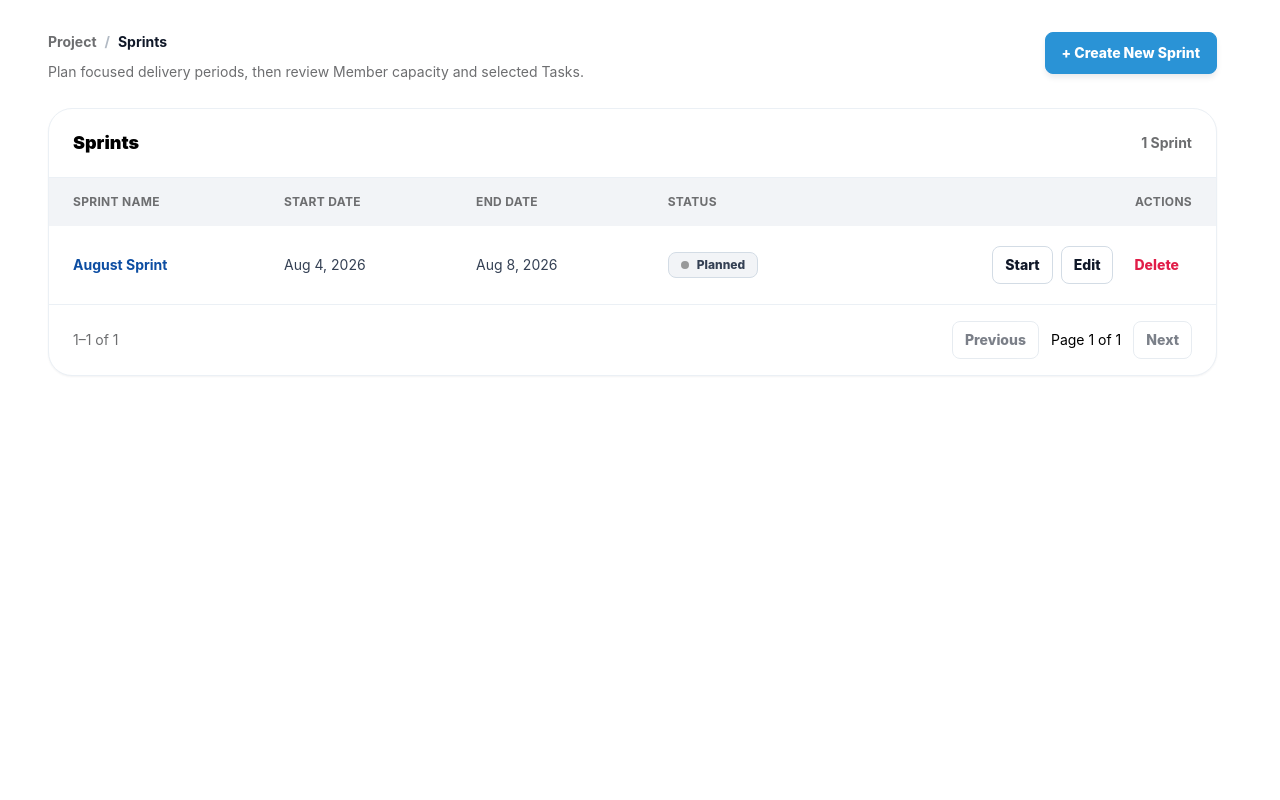
Test: SprintsPage › opens Add Task results inline from the main Sprint page_AC40
Click the button "August Sprint". click: (120, 265)
box: [73,255,167,275]
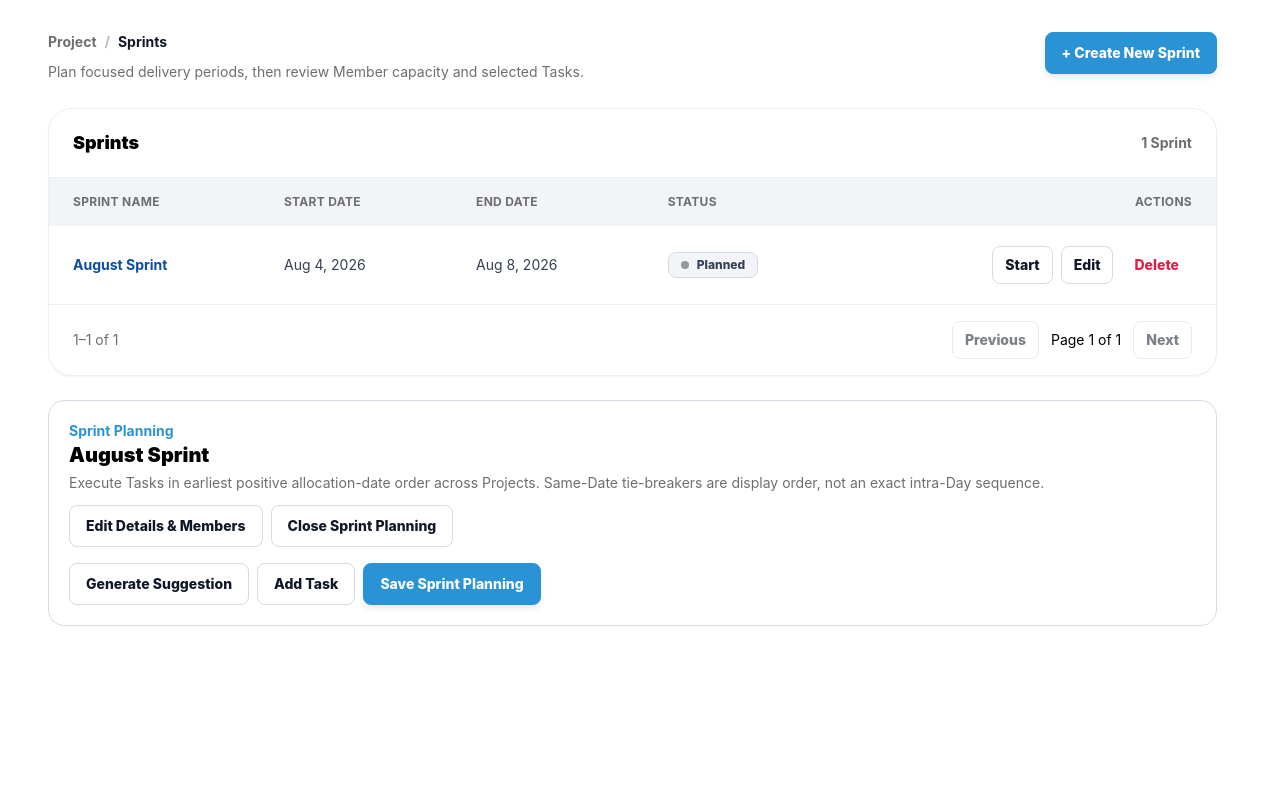
Click the button "Add Task". click: (306, 584)
box: [257,563,355,605]
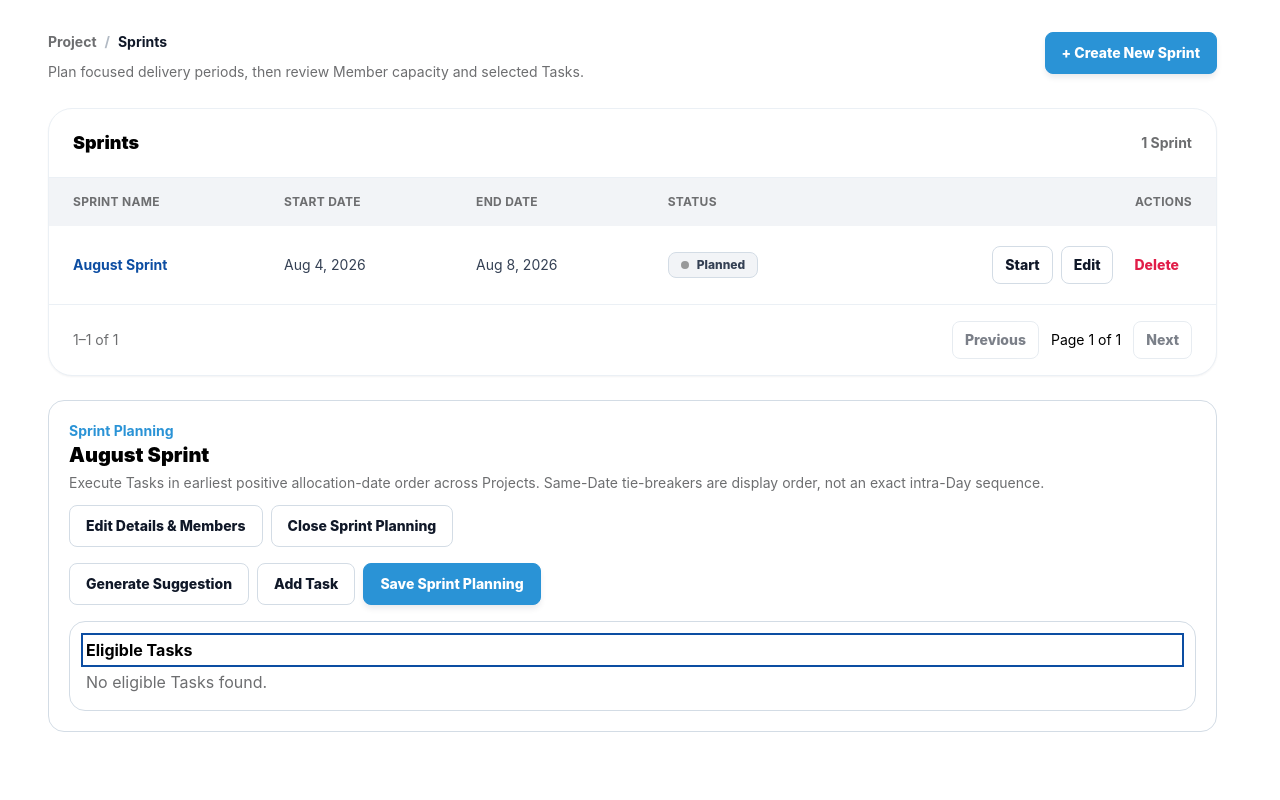
Now the element "Eligible Tasks" is shown, box [69,621,1196,711]
Now the text "No eligible Tasks found." is shown, box [86,672,267,692]
